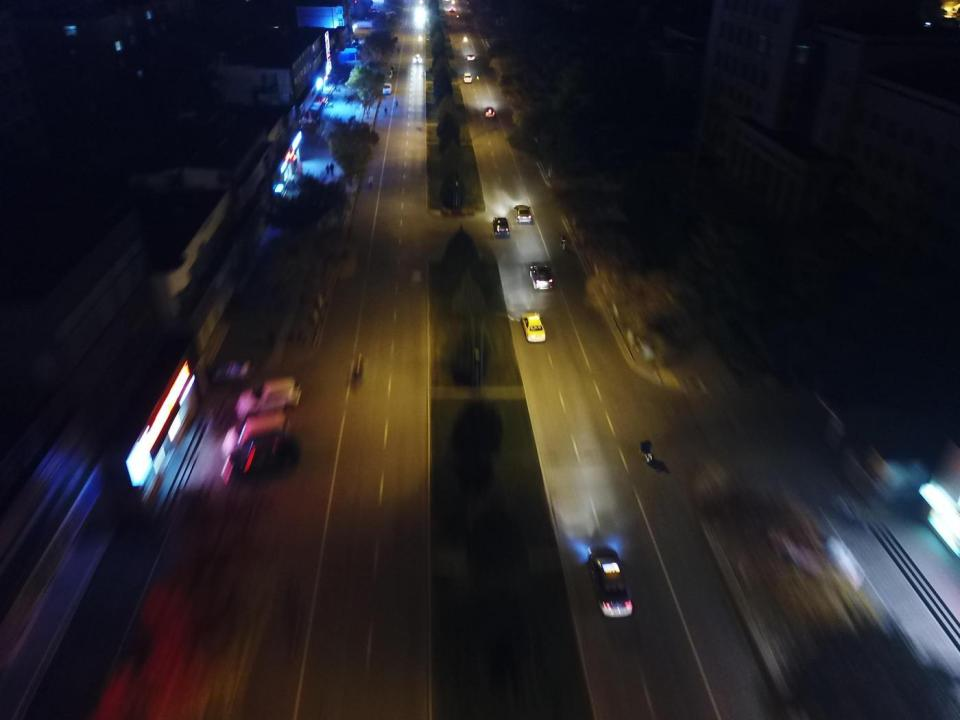car: (220, 432, 299, 480), (590, 545, 633, 619), (221, 412, 294, 452), (235, 377, 300, 420), (522, 310, 546, 343), (212, 359, 252, 377), (529, 264, 553, 292), (494, 218, 513, 236), (515, 204, 532, 224), (485, 106, 496, 119), (412, 53, 423, 64), (382, 83, 392, 95), (463, 72, 472, 83), (467, 49, 476, 60), (371, 8, 378, 13), (449, 7, 455, 12), (452, 0, 456, 5)
van: (317, 45, 357, 66)
